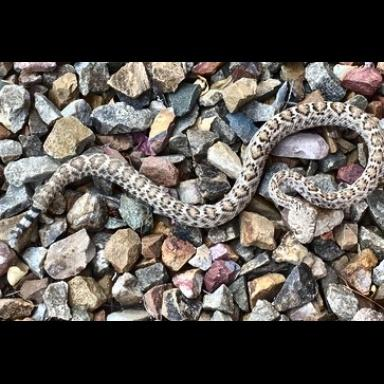snake: (9, 91, 384, 285)
